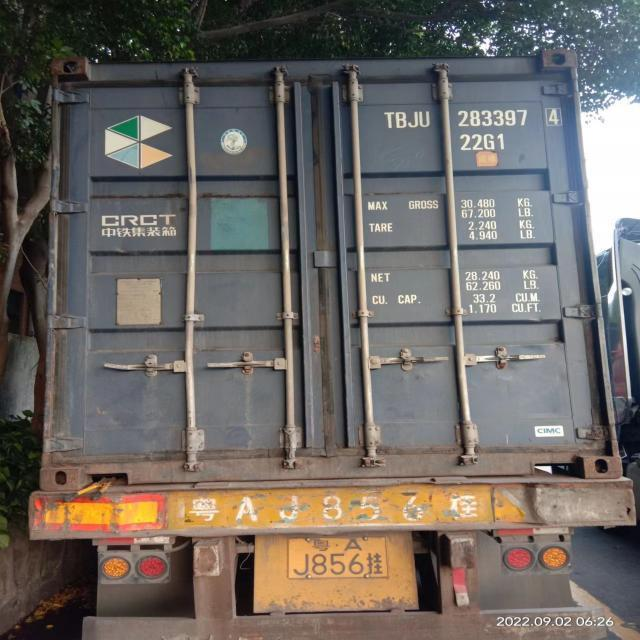ISO: (460, 133, 504, 153)
container_number: (383, 102, 566, 128)
